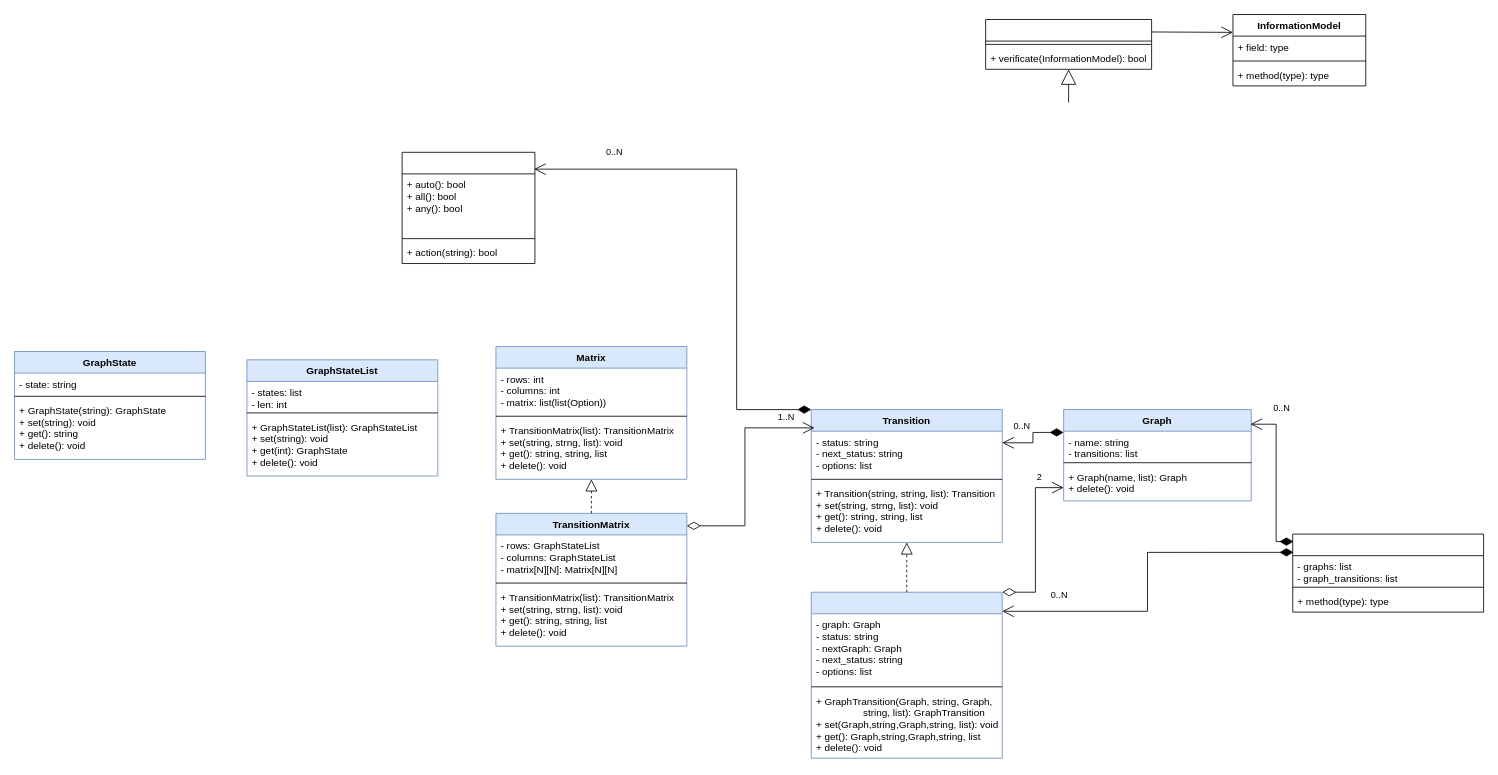
This 1498x775 diagram has some shape labels left out. Each missing label, with the box of its shape:
GrapghTransition: (810, 591, 1002, 758)
Option: (401, 151, 535, 264)
Verifier: (985, 19, 1152, 69)
View: (1292, 533, 1484, 612)
